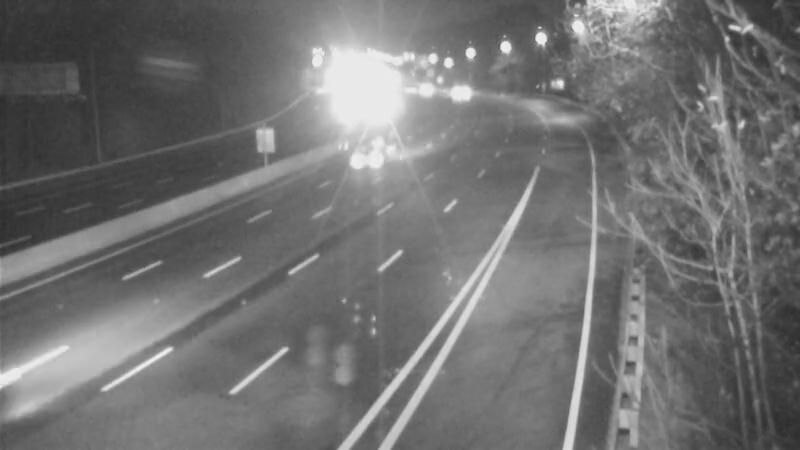vehicle: (333, 119, 413, 199)
